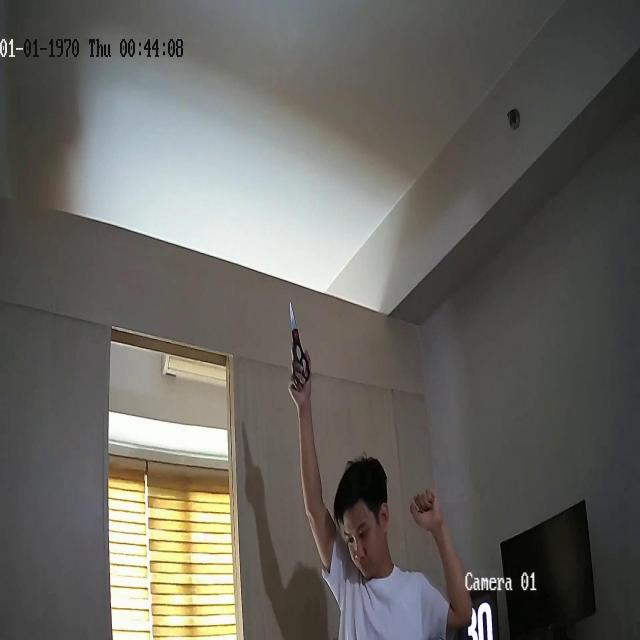scissor: (289, 300, 311, 390)
